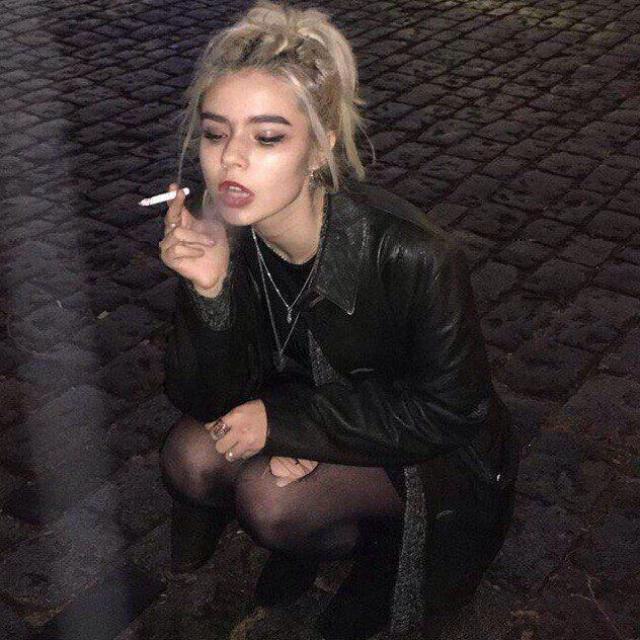cigarette: (134, 175, 196, 213)
